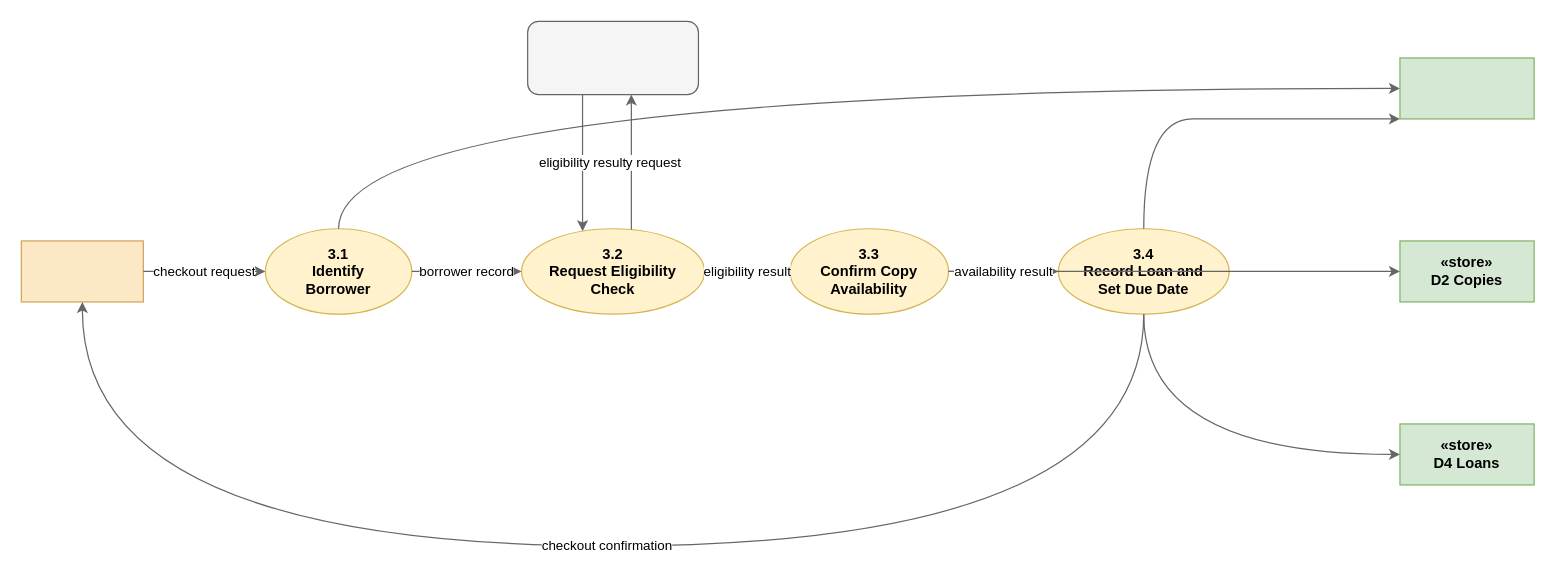
The diagram is 1556 pixels wide and 575 high, and some of its shapes have lost their labels. The centre of each missing label's shape, as x and y in pixels:
"Borrower" belongs at (81,271).
"«ext» 2.0 Verify Eligibility (level 1)" belongs at (612,57).
"«store» D3 Borrowers" belongs at (1466,88).
